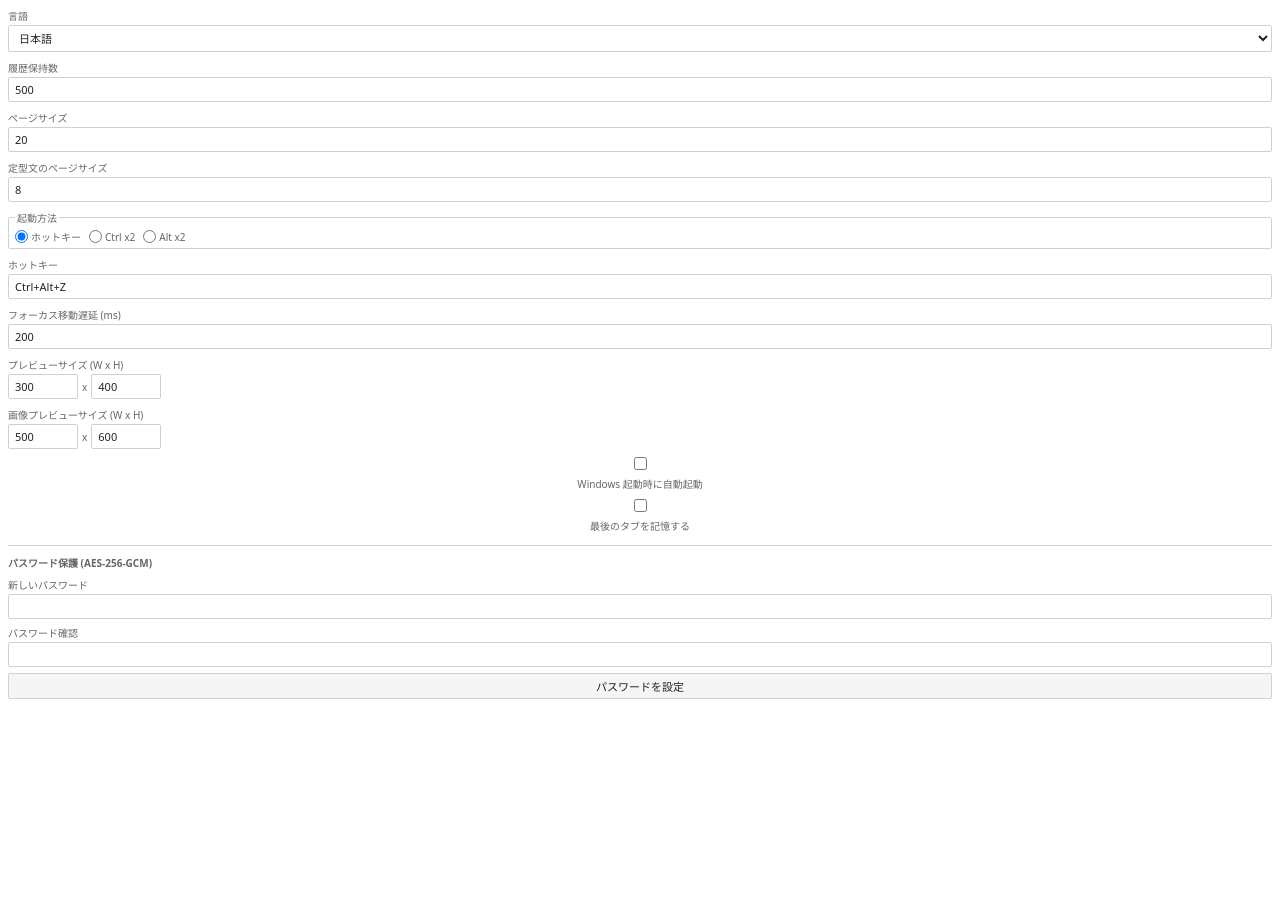
Scenario: SettingsView › password flow when requirePassword=false › shows error when new password is empty
Click the button "パスワードを設定": (640, 686) [8,673,1272,699]
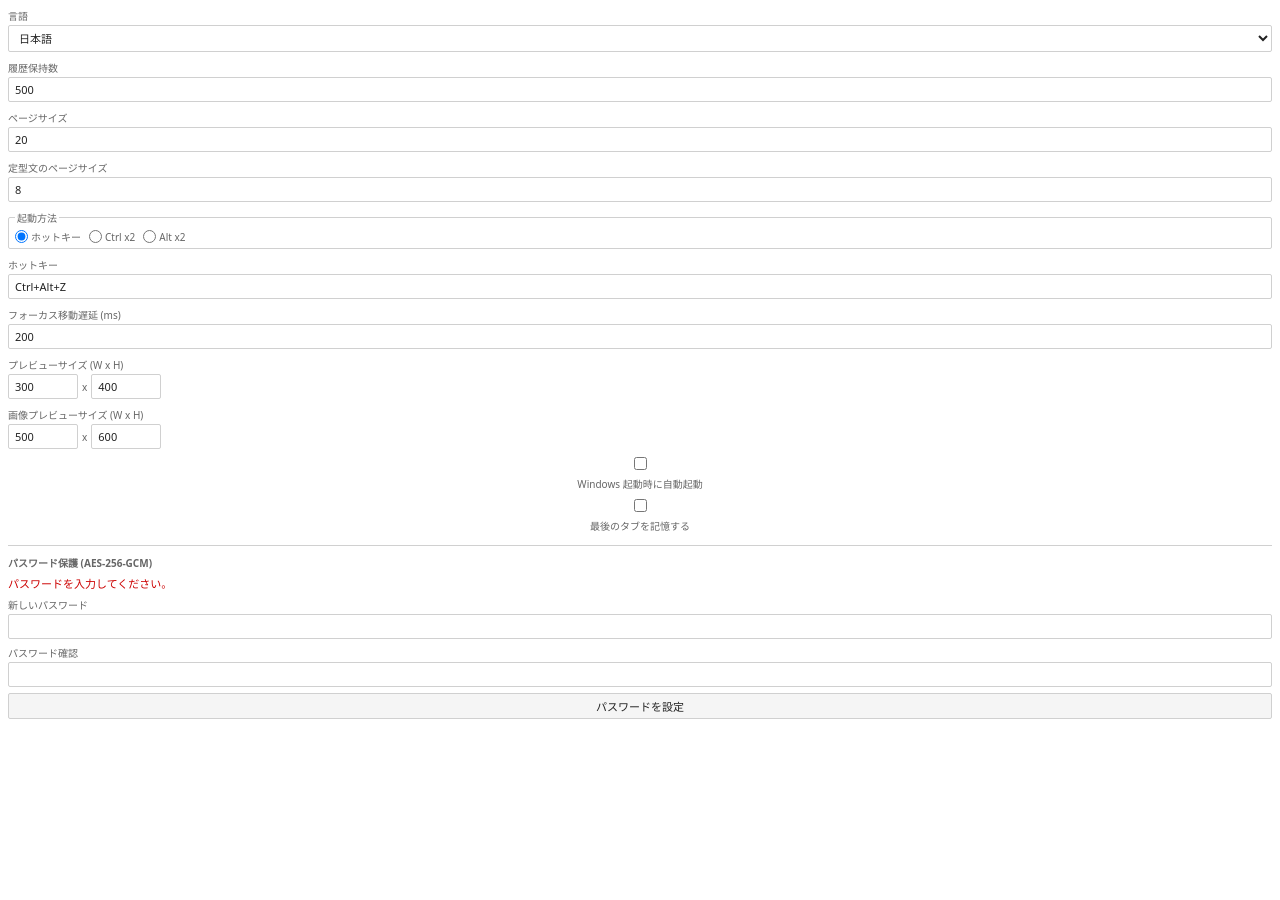
Now the text "パスワードを入力してください。" is shown, box [8,576,172,591]
